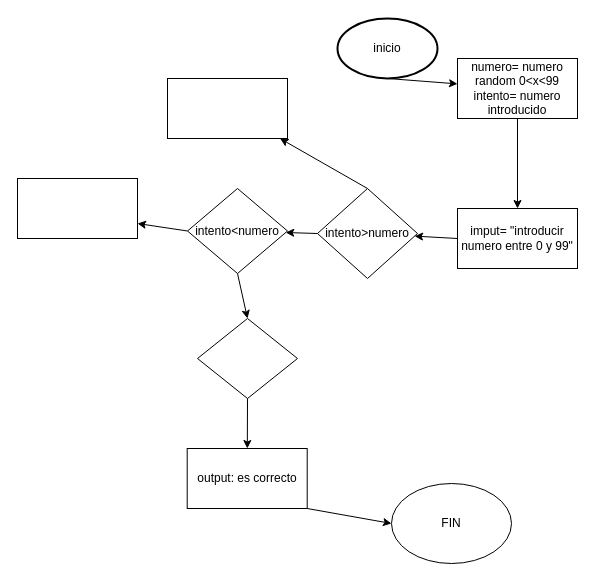
This 595x581 diagram has some shape labels left out. The shapes that lost their labels are listed below. From the top down, each one's box as (x1, y1, x2, y2) in pixels, then its label:
(166, 78, 288, 138): output: el intento es muy grande
(16, 178, 138, 238): output: el inteento es muy pequeño
(196, 318, 298, 398): intento=numero
